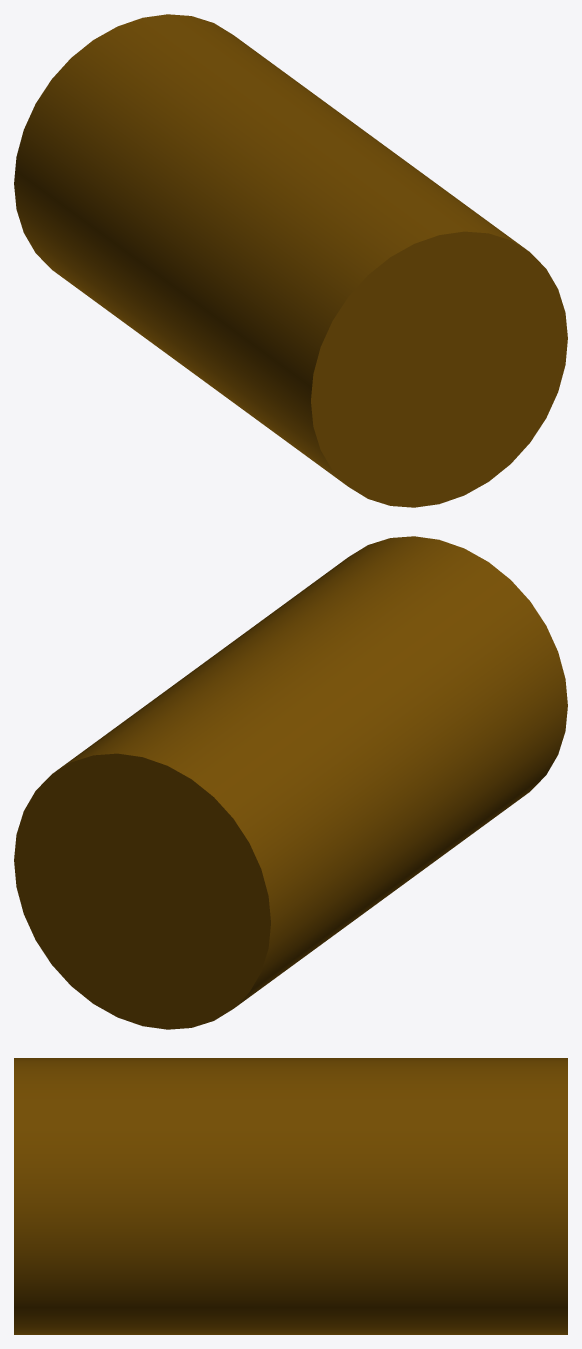
File: trebuchet-cylinder.fbx
The picture shows the model from 3 angles, top to bottom: view 1: azimuth 30°, elevation 25°; view 2: azimuth 150°, elevation 25°; view 3: azimuth 270°, elevation 25°; orthographic projection. The views are drawn at different scales.
Visible parts, largest first — view 1: Cylinder; view 2: Cylinder; view 3: Cylinder.
Boxes of the visible parts, x1,y1,x2,y2 form: Cylinder: [14, 14, 567, 507]; Cylinder: [14, 536, 567, 1029]; Cylinder: [14, 1058, 567, 1334].
Bounding box in the file's own units: 1 × 1 × 2.
